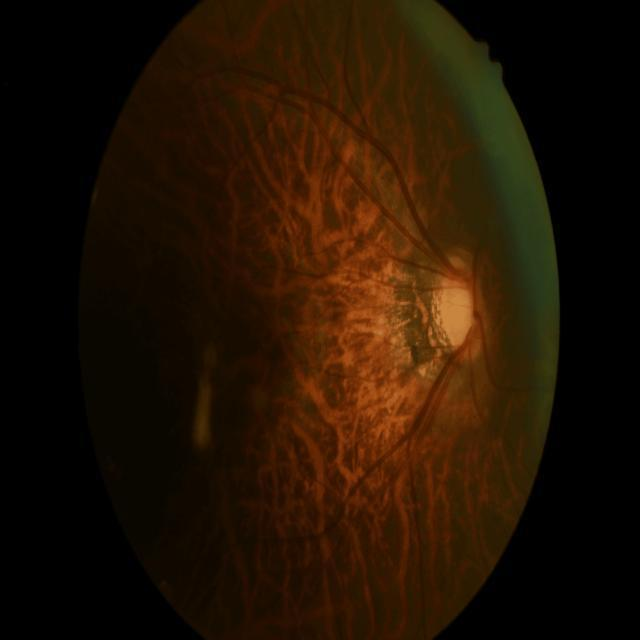cup: (438, 270, 474, 350)
disk: (434, 252, 491, 366)
